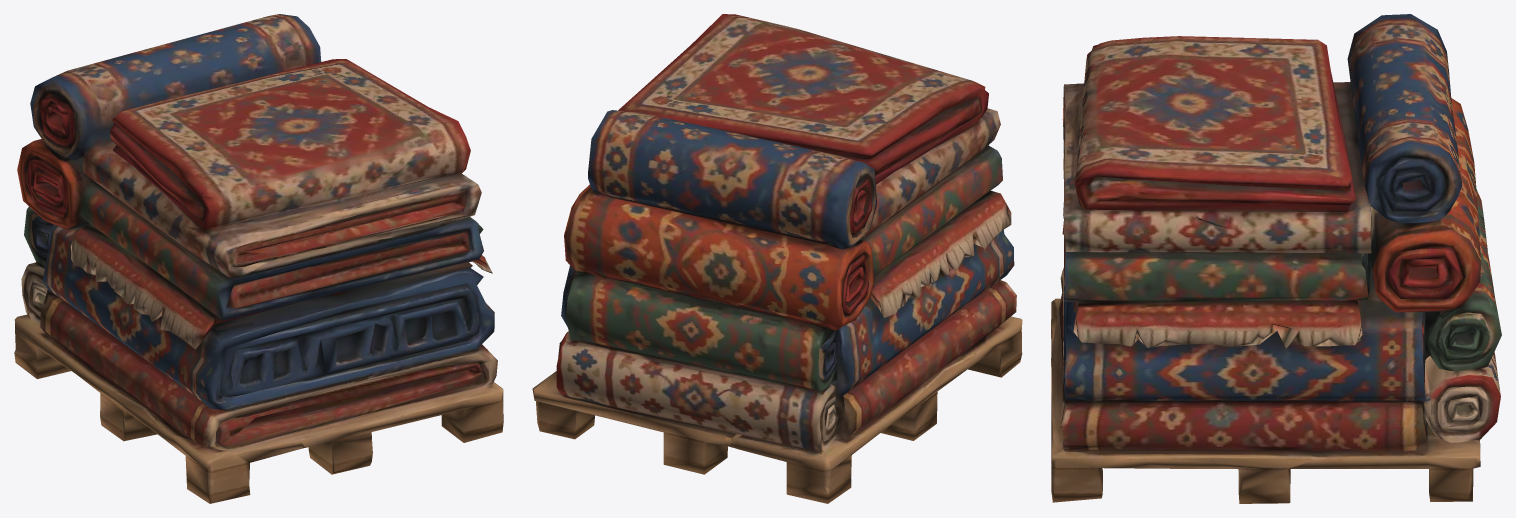
The model's file is rug_pile.glb.
3 views of the same model, side by side, from view 1: azimuth 30°, elevation 25°; view 2: azimuth 150°, elevation 25°; view 3: azimuth 270°, elevation 25° (orthographic). The views are drawn at different scales.
Visible parts, largest first — view 1: tripo_node_ed8bf271-d94d-4048-a26a-d111697fc9f2; view 2: tripo_node_ed8bf271-d94d-4048-a26a-d111697fc9f2; view 3: tripo_node_ed8bf271-d94d-4048-a26a-d111697fc9f2.
Part boxes in pixels (<box>): tripo_node_ed8bf271-d94d-4048-a26a-d111697fc9f2: <box>14,14,503,503</box>; tripo_node_ed8bf271-d94d-4048-a26a-d111697fc9f2: <box>532,14,1022,503</box>; tripo_node_ed8bf271-d94d-4048-a26a-d111697fc9f2: <box>1051,14,1501,503</box>.
Bounding box in the file's own units: 0.8575 × 0.8267 × 1.
Materials: 1 (1 with a texture image).
